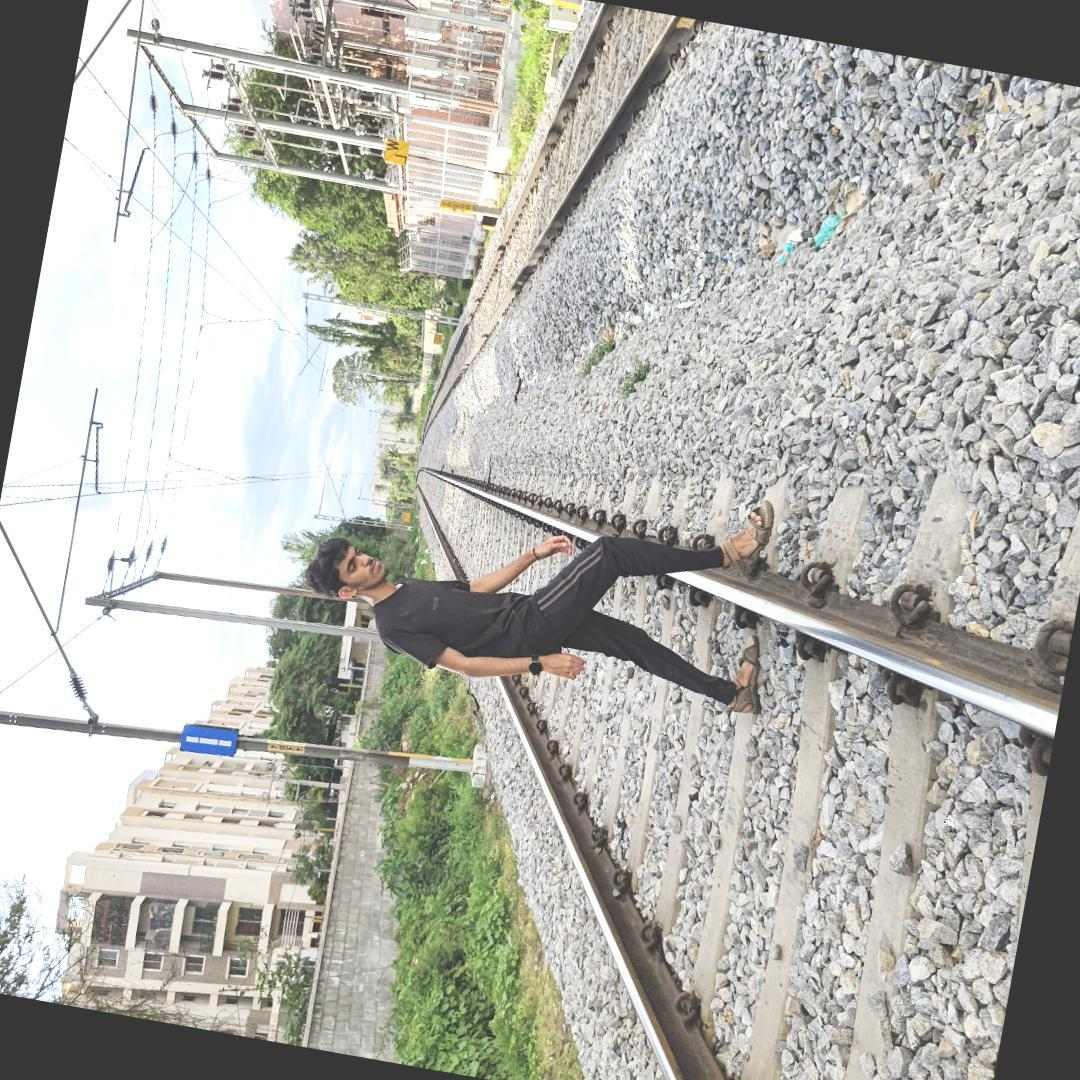standing: (294, 499, 782, 740)
